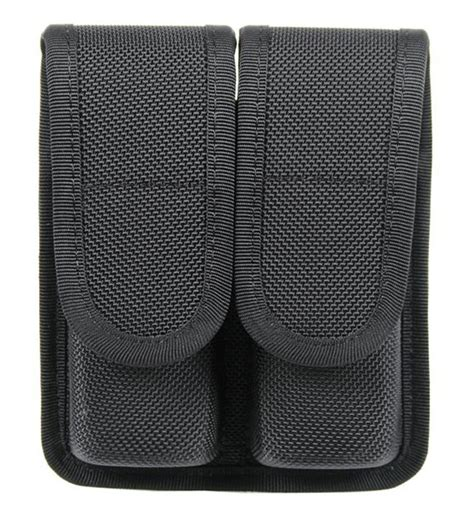nylon: (38, 22, 430, 493)
